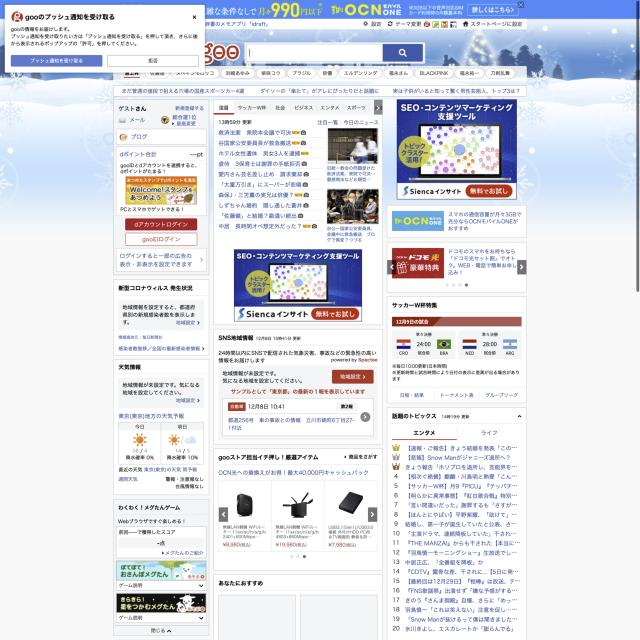CheckBox: (10, 54, 103, 68), (106, 54, 199, 68)
ImageView: (396, 98, 517, 199), (234, 248, 362, 322)
Input field: (10, 26, 198, 50)
carousel: (192, 13, 196, 20)
data feed: (28, 56, 85, 64), (147, 57, 158, 64)
date picker: (9, 10, 24, 24)
header: (4, 4, 206, 74)
